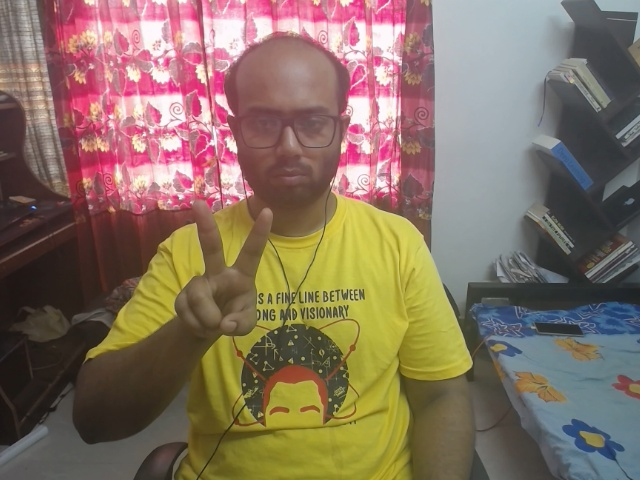two: (173, 177, 303, 356)
